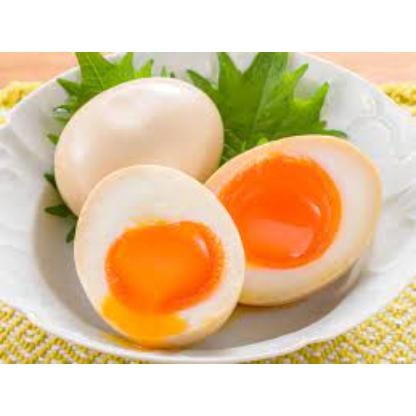egg: (45, 73, 225, 214)
